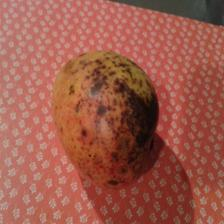Mango Semirotten: (47, 46, 161, 189)
